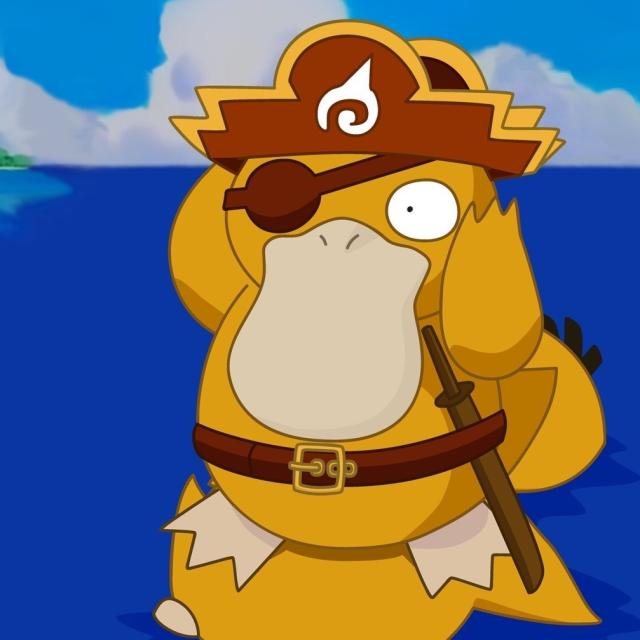Psyduck: (182, 78, 529, 572)
